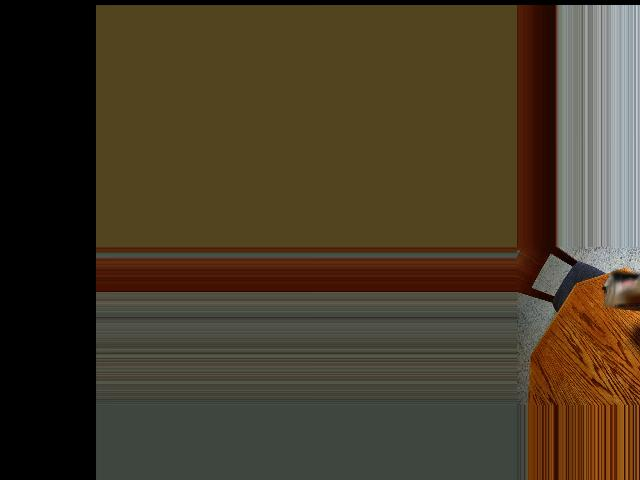cheese: (605, 264, 640, 319)
